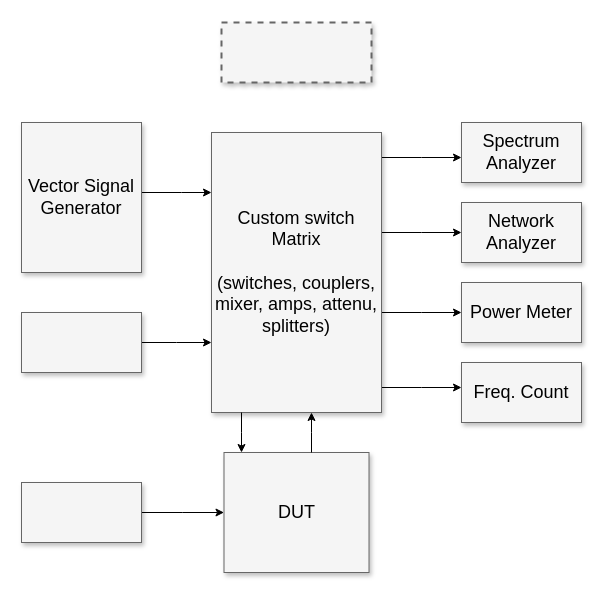
This 605x597 diagram has some shape labels left out. Here are the shapes that lost their labels. From the top down, the centre of each, then its label:
(297,53): Script
(82,344): ARB / Mod Source
(82,514): DC Power Supplies
